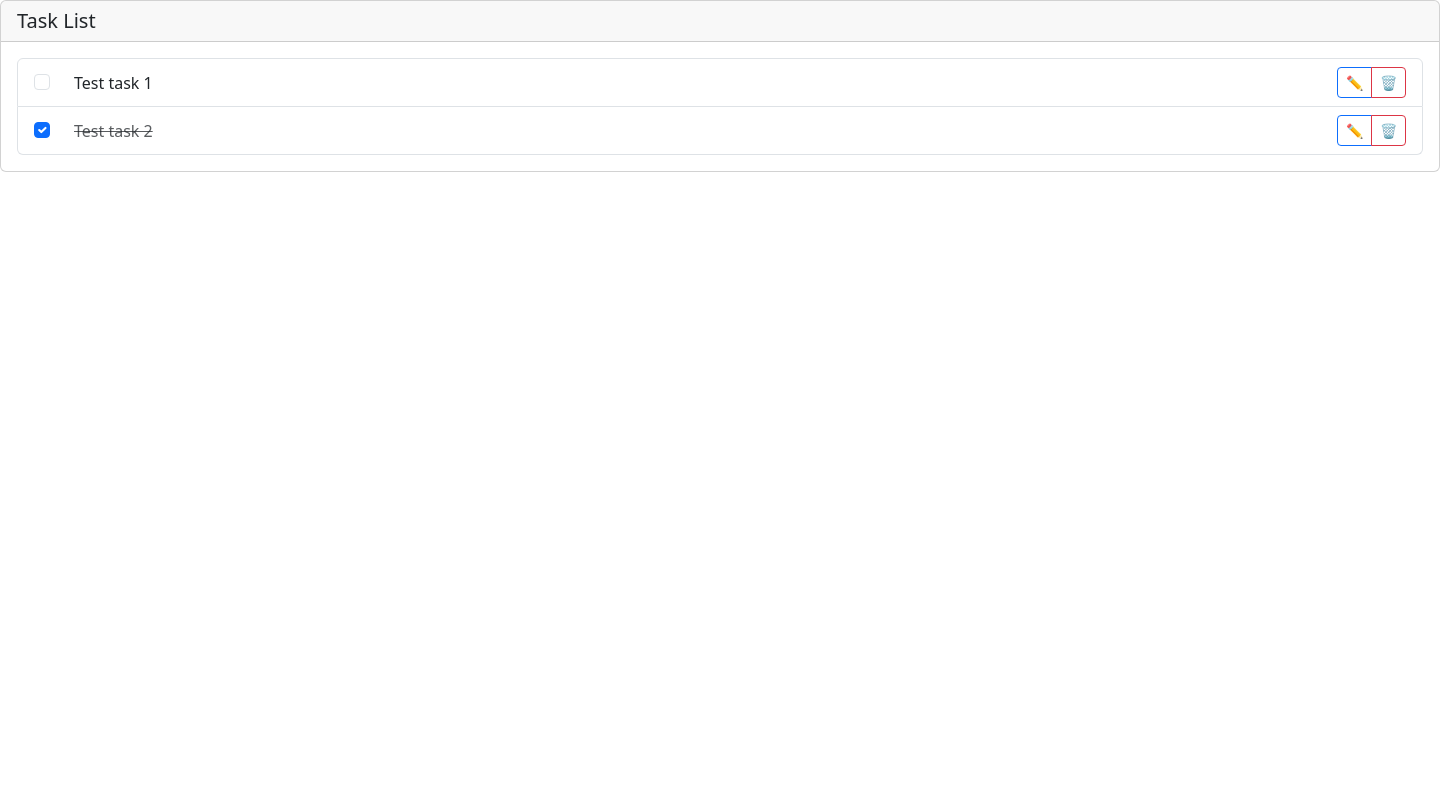
Test: TaskList › Delete Functionality › should open delete confirmation modal when delete button is clicked
# Click delete button to open modal
What coordinates should you click on to do the following:
click the button titled "Delete task" in the row of "Test task 1"
I would click on:
 (1388, 82)
Its box is 1371,67 -> 1406,98.
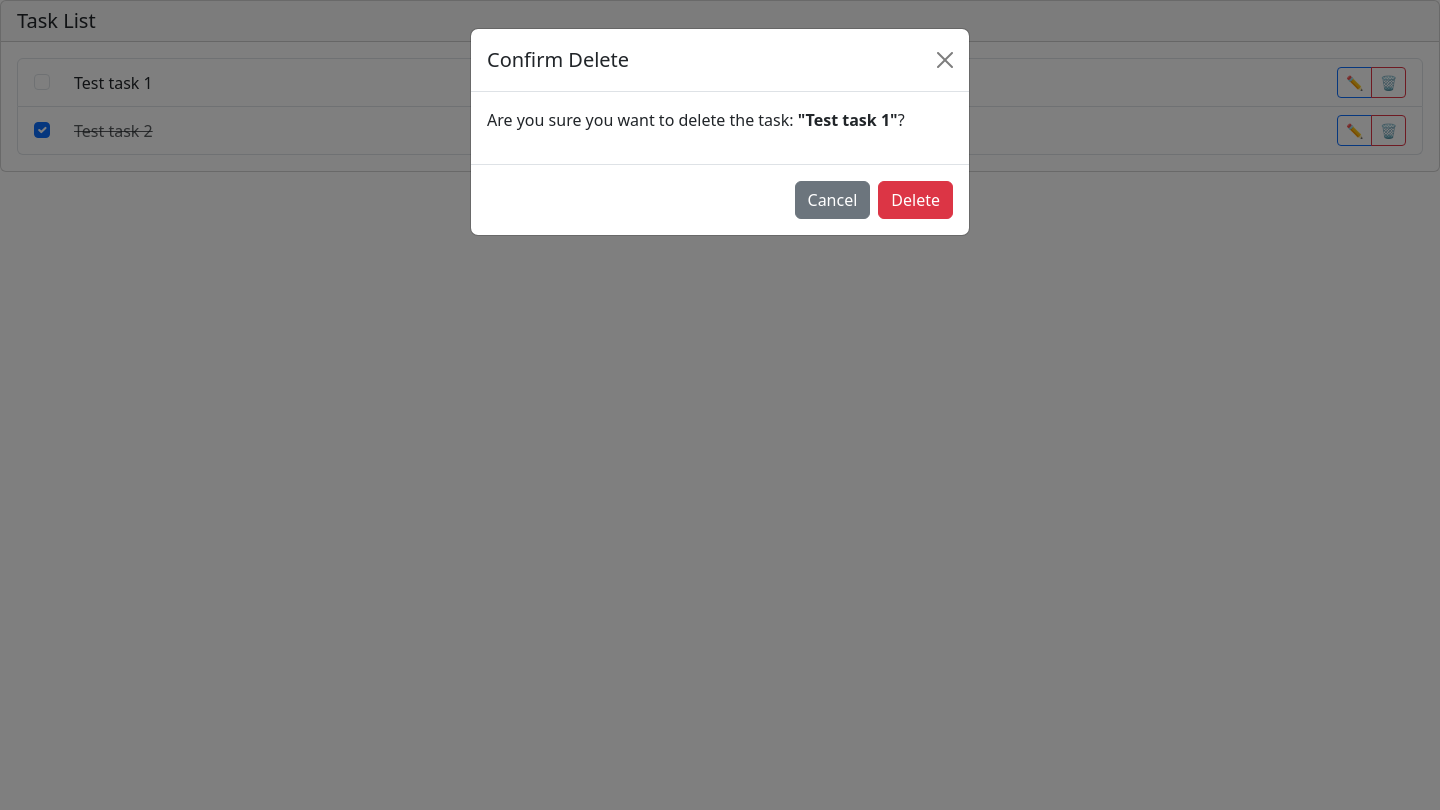
Expected: the heading "Confirm Delete" is shown, 487,45 -> 629,75
Expected: the text "Are you sure you want to delete the task: \"Test task 1\"?" is shown, 487,108 -> 953,132
